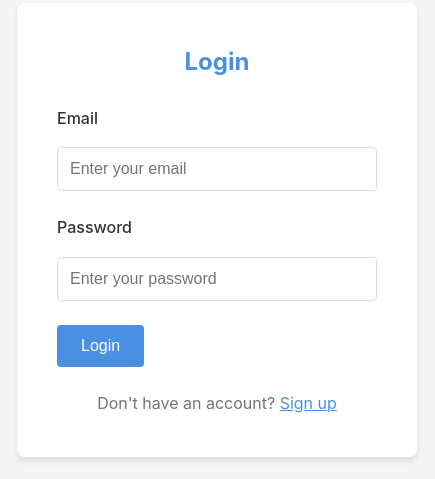
Scenario: Login Component › disables submit button while loading
The image size is (435, 479).
Type "test@example.com" into the field labelled "Email" at (217, 169), box [57,147,377,191]
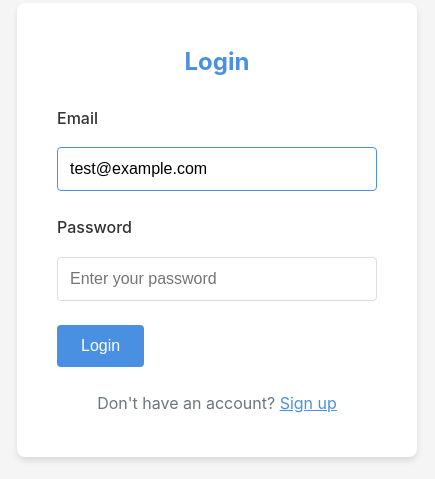
Type "password123" into the password field labelled "Password" at (217, 279), box [57,257,377,301]
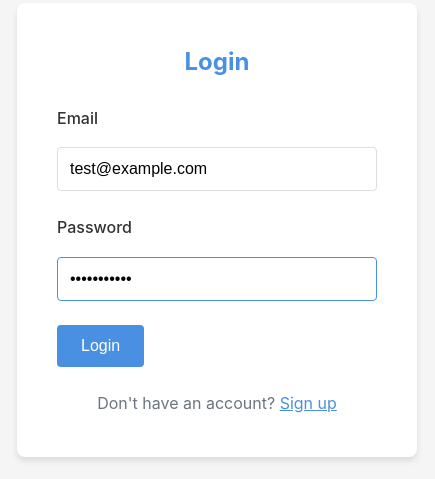
Click the button "Login" at (101, 346), box [57,325,144,367]
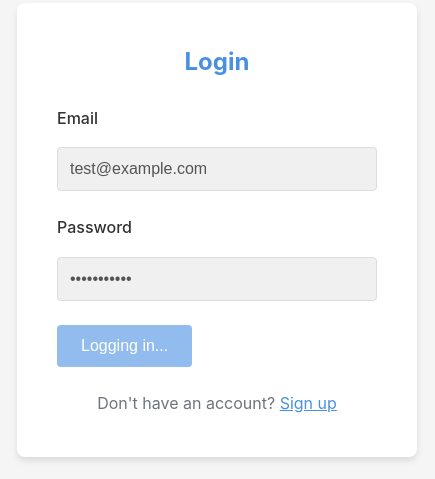
Check: the button "Logging in..." is disabled, box [57,325,192,367]
